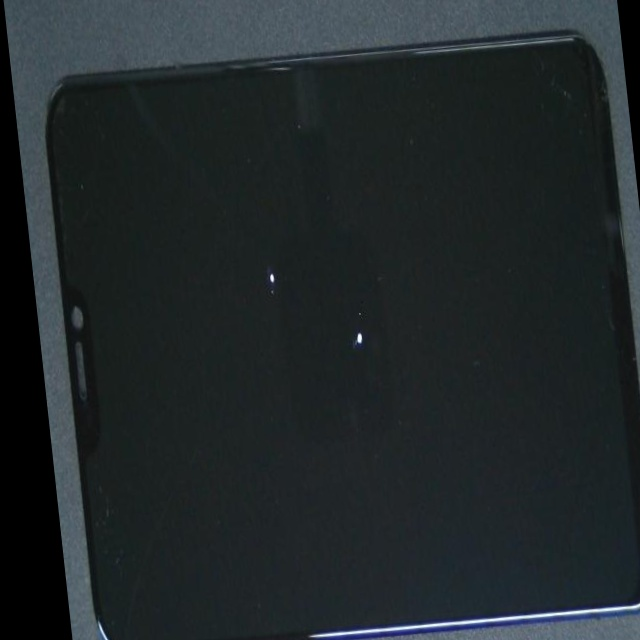stain: (168, 121, 527, 574), (90, 61, 408, 487)
